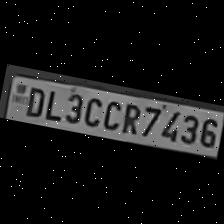3: (60, 90, 85, 125), (176, 110, 200, 146)
4: (156, 106, 182, 142)
6: (196, 114, 220, 149)
7: (137, 102, 161, 138)
C: (98, 96, 123, 132), (80, 92, 104, 128)
D: (21, 84, 46, 118)
L: (42, 86, 65, 122)
R: (118, 100, 143, 136)
